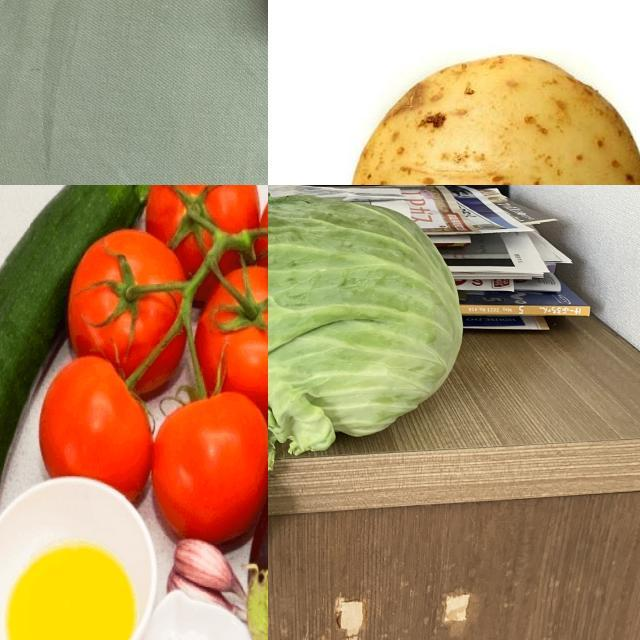cabbage: (269, 192, 466, 604)
garlic: (168, 535, 250, 603)
potato: (339, 53, 640, 186)
tomato: (151, 401, 267, 541), (45, 359, 149, 495), (78, 240, 175, 368), (154, 186, 258, 279), (207, 259, 269, 412)
zucchini: (1, 186, 148, 585)
